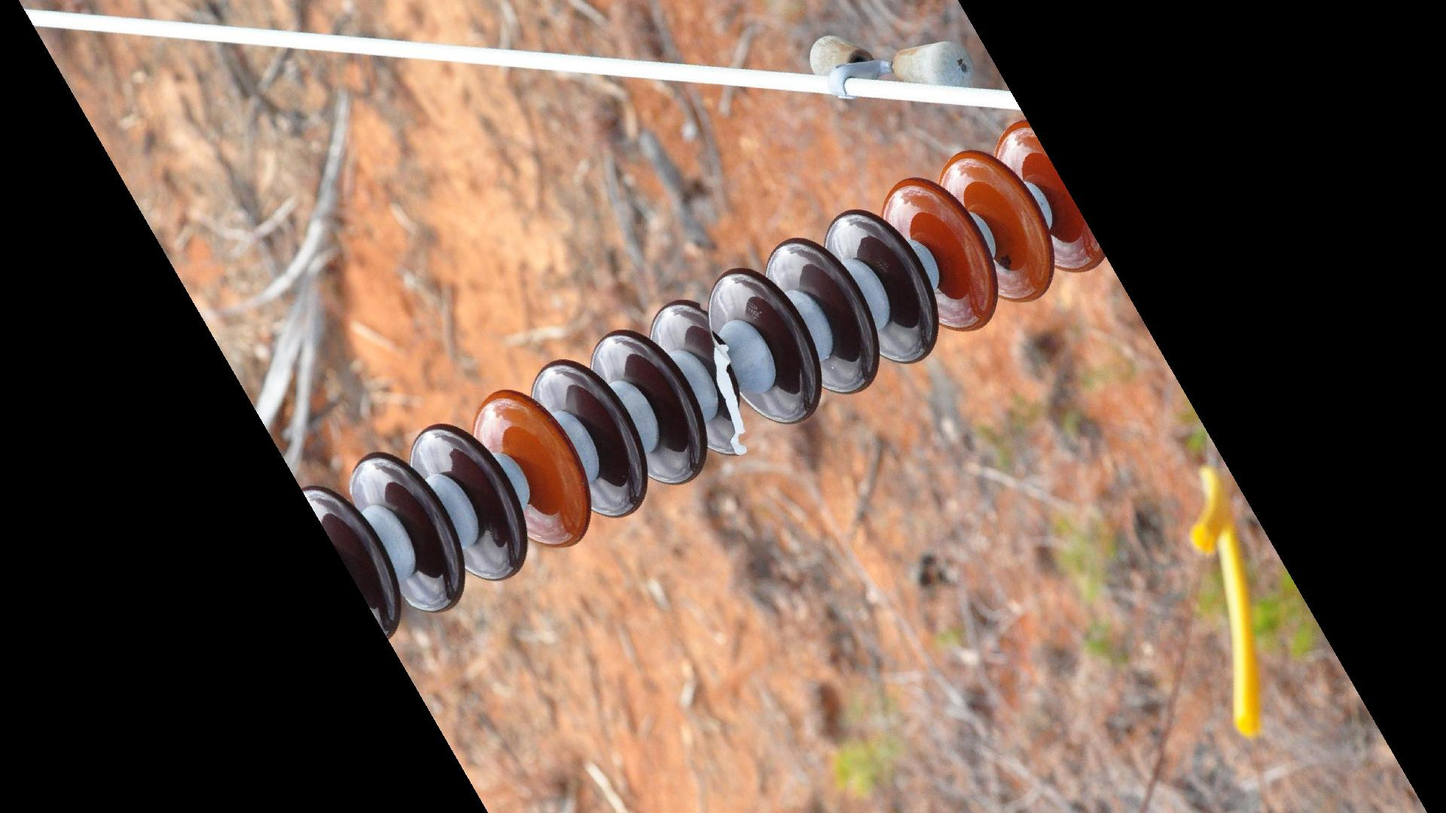insulator: (307, 114, 1113, 647)
insulator_breakage: (691, 305, 758, 462)
